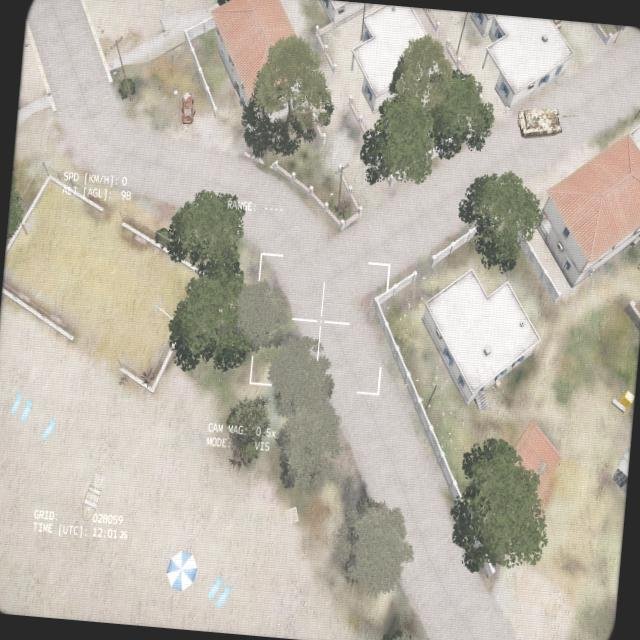tank: (514, 101, 580, 143)
